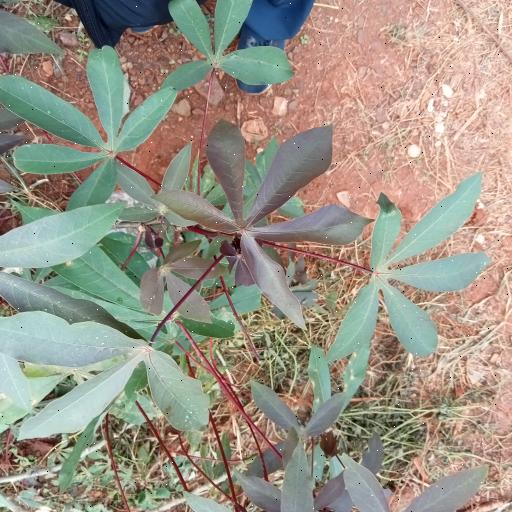Cassava_Healthy: (158, 122, 374, 318), (0, 44, 178, 208), (0, 306, 213, 441), (350, 182, 482, 367)
